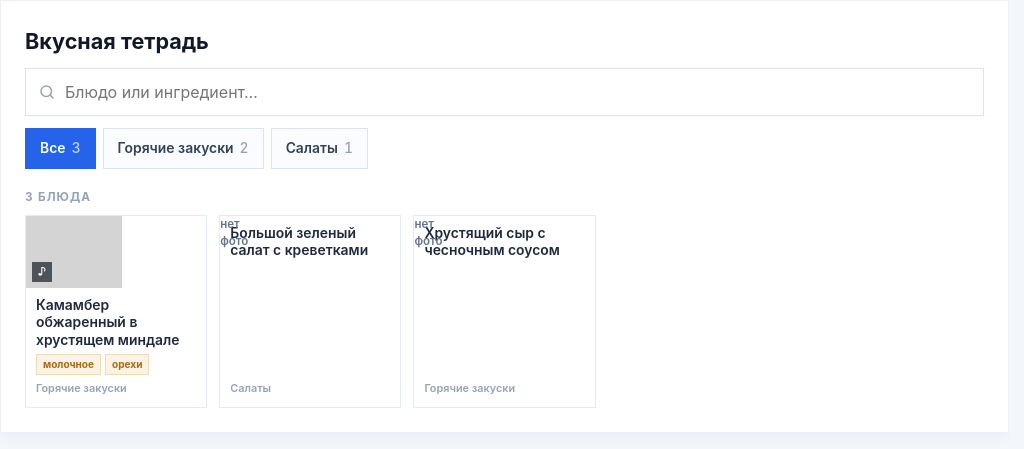
Test: TastyNotebookView — экран официанта › не различает регистр и букву ё
The width and height of the screenshot is (1024, 449).
Type "ЗЕЛЕНЫЙ" into the search field with placeholder "Блюдо или ингредиент…" at point(518, 92), box [65,80,971,104]
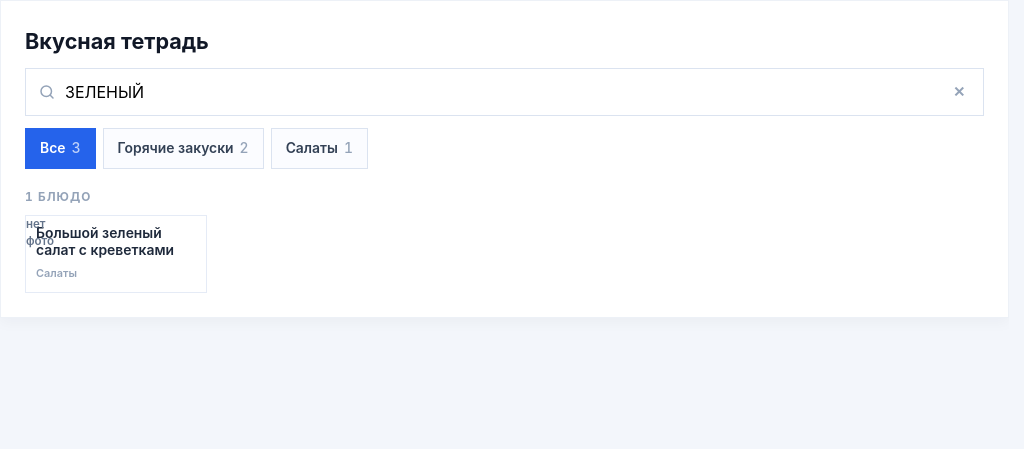
Now the number of buttons with class "nb-tile" is 1, box [25,215,207,293]
